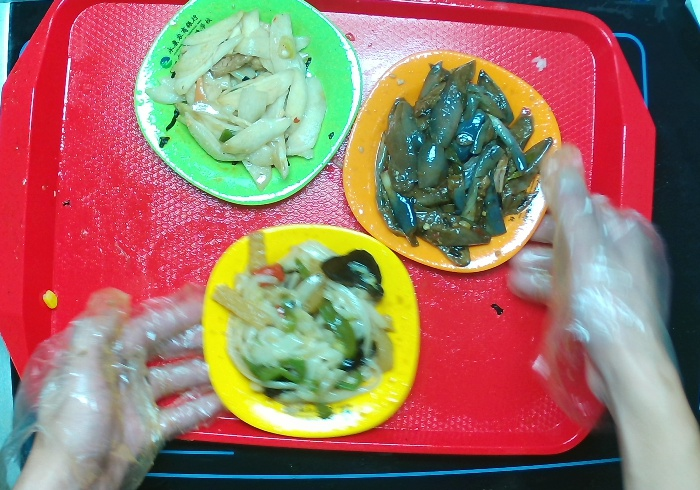YKMZ-Huang_Se_Fang_Die: (199, 222, 422, 439)
YKMZ-Ju_Se_Fang_Die: (341, 49, 562, 274)
YKMZ-Lv_Se_Fang_Die: (131, 1, 364, 207)
